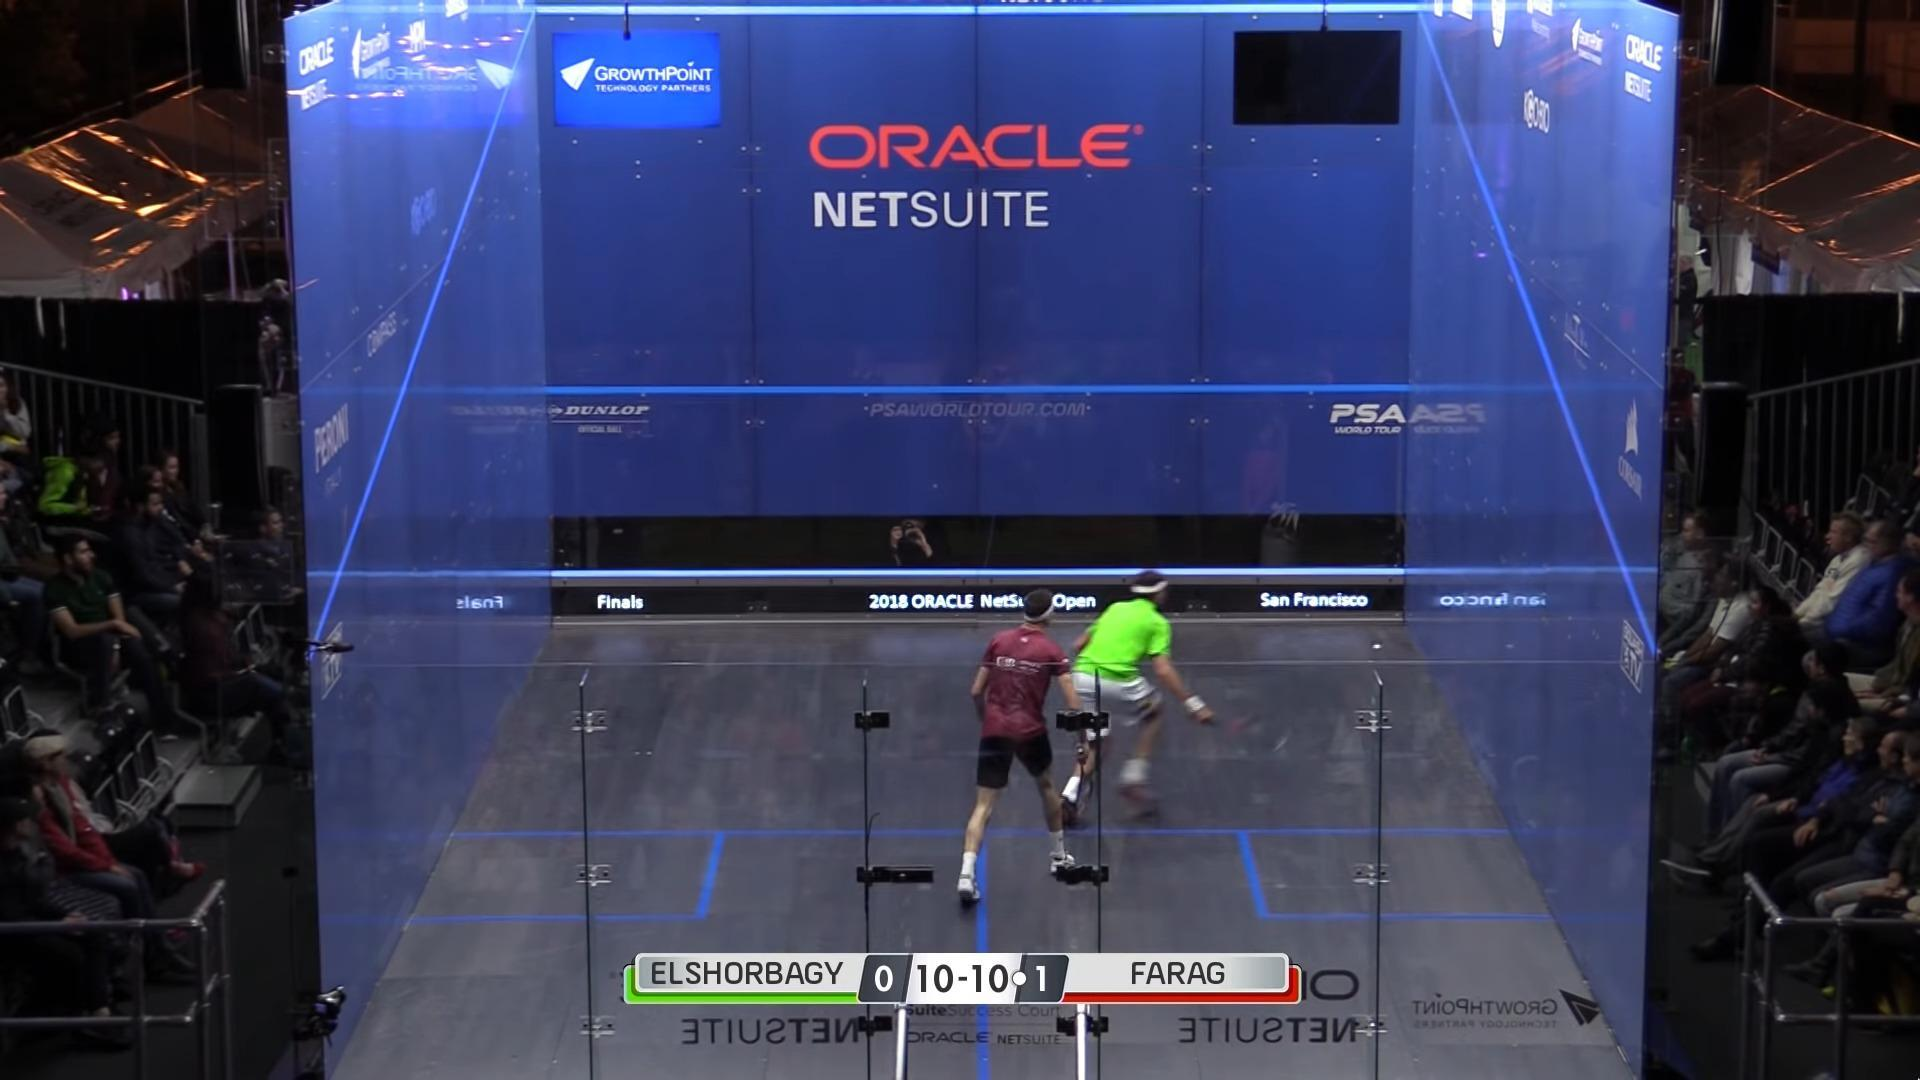Squash-Ball: (1366, 633, 1390, 658)
